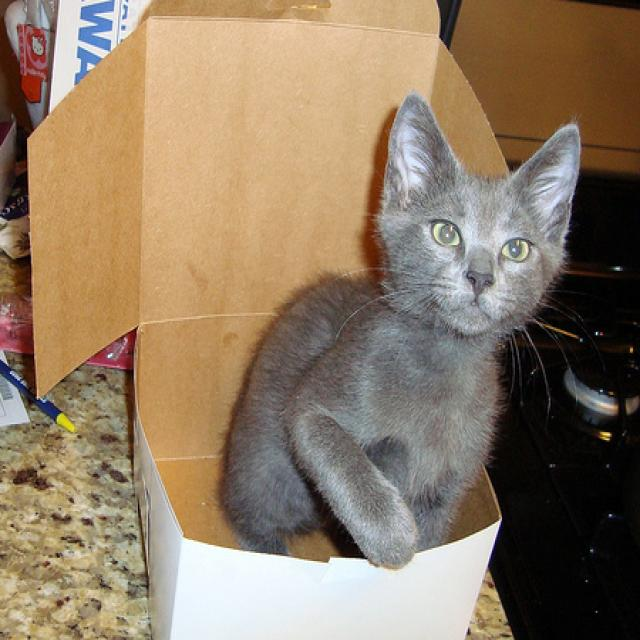Russian Blue: (223, 82, 585, 573)
